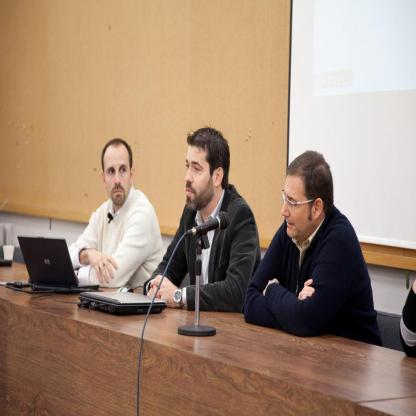board: (18, 238, 106, 305), (78, 293, 167, 317)
